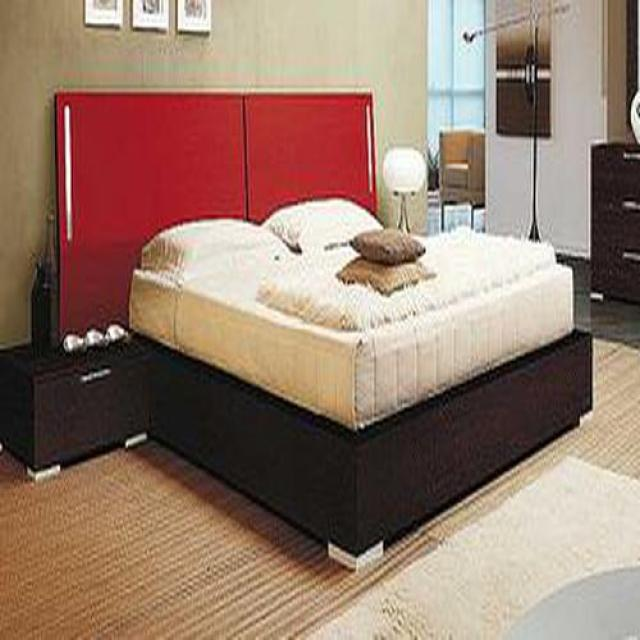bed: (122, 197, 594, 558)
